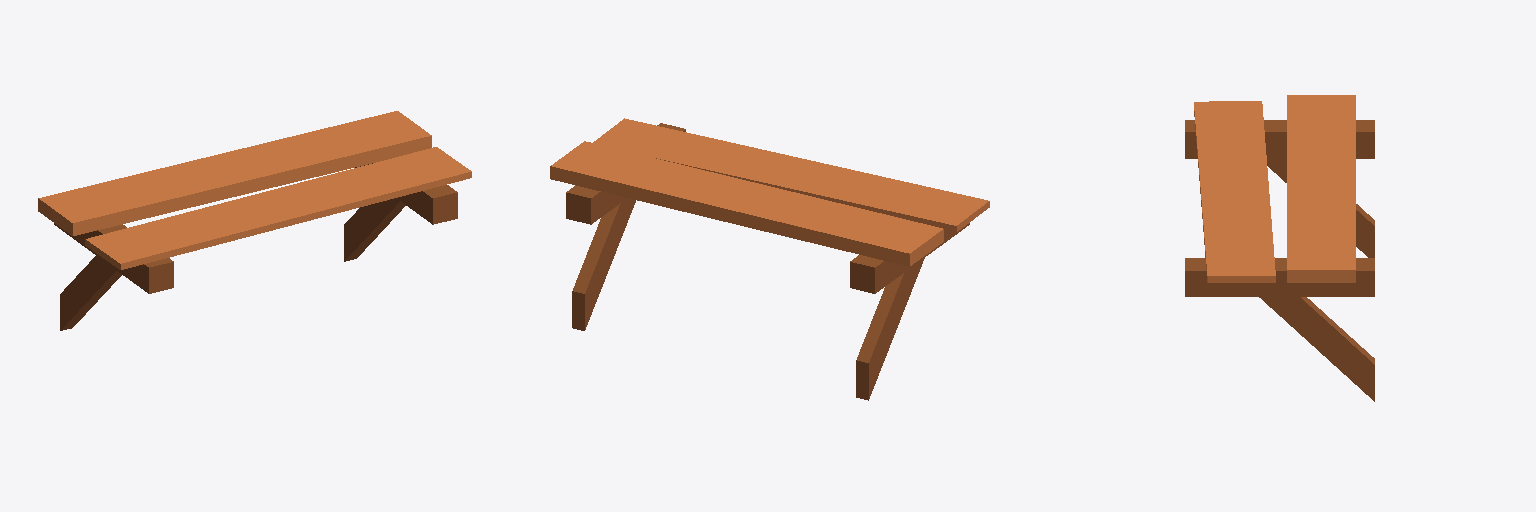
Rendered from bridgeHalf.obj.
3 views of the same model, side by side, from view 1: azimuth 30°, elevation 25°; view 2: azimuth 150°, elevation 25°; view 3: azimuth 270°, elevation 25° (orthographic).
Visible parts, largest first — view 1: bridgeHalf; view 2: bridgeHalf; view 3: bridgeHalf.
Boxes of the visible parts, <box> form: bridgeHalf: <box>38,111,471,330</box>; bridgeHalf: <box>550,118,989,400</box>; bridgeHalf: <box>1185,95,1374,401</box>.
Size of the model in its own units: 1 by 0.3925 by 0.4575.